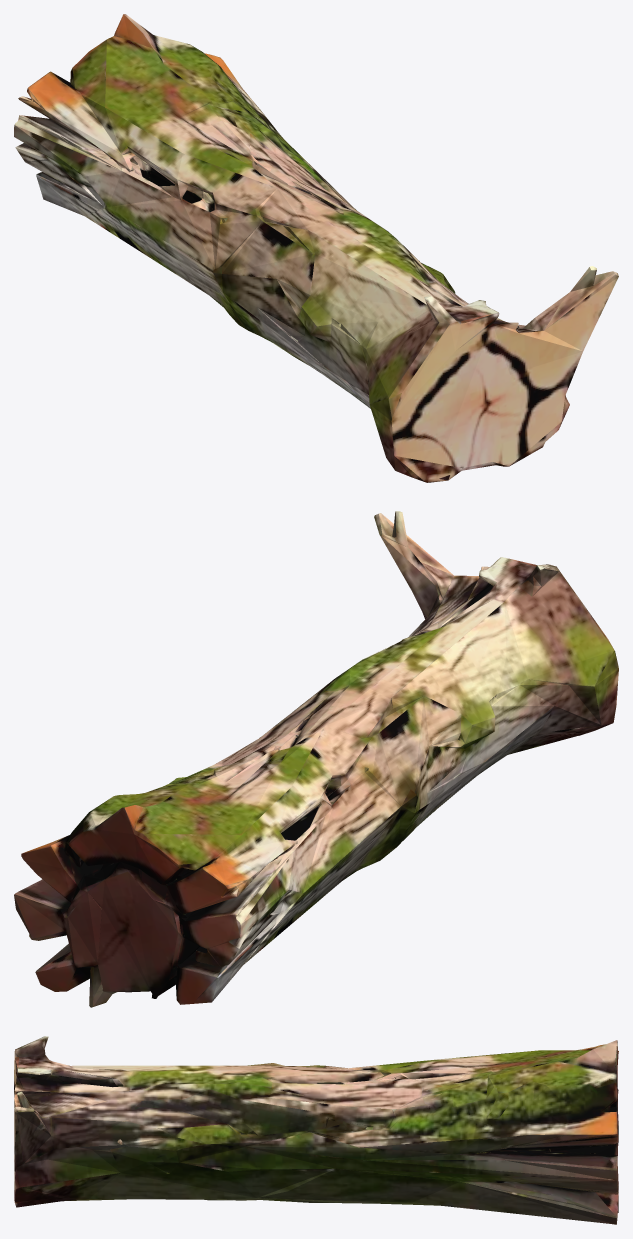
Rendered from nature_fallen_log_01.glb.
3 views of the same model, one above another, from view 1: azimuth 30°, elevation 25°; view 2: azimuth 150°, elevation 25°; view 3: azimuth 270°, elevation 25° (orthographic). The views are drawn at different scales.
Parts seen in each view (by area): view 1: geometry_0; view 2: geometry_0; view 3: geometry_0.
Boxes of the visible parts, <box> form: geometry_0: <box>14,14,618,482</box>; geometry_0: <box>14,511,618,1007</box>; geometry_0: <box>14,1036,618,1224</box>.
Bounding box in the file's own units: 0.3744 × 0.2989 × 0.9989.
1 material, 1 textured.
